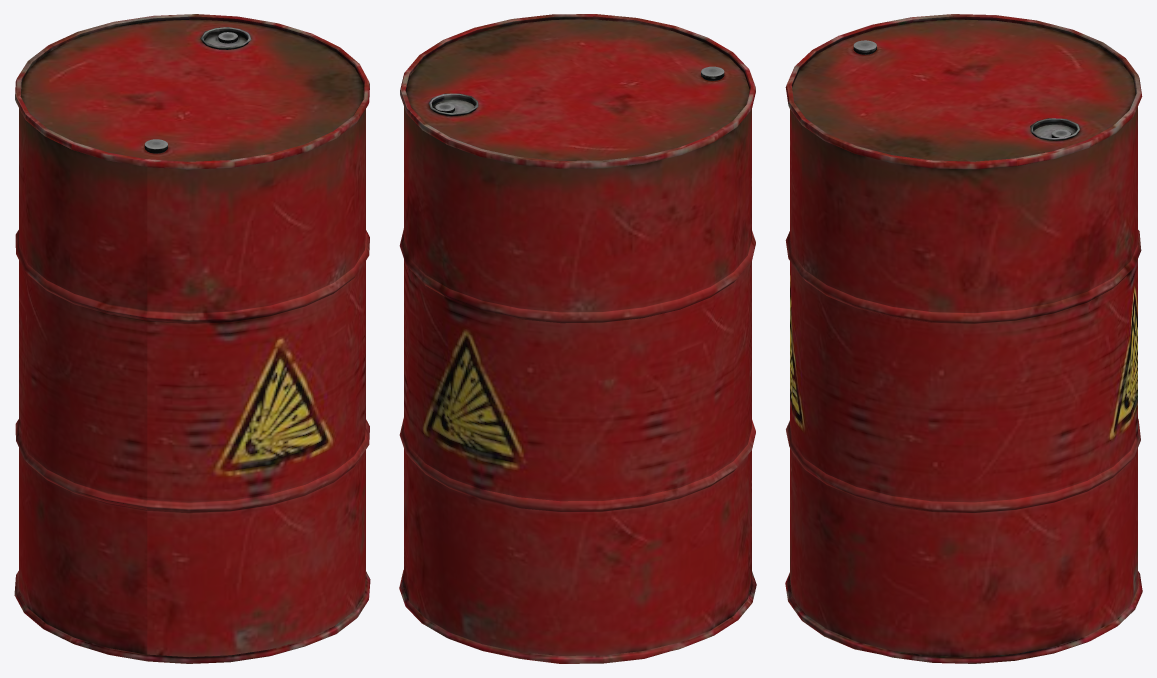
The model's file is ph_barrel.glb.
The picture shows the model from 3 angles, left to right: view 1: azimuth 30°, elevation 25°; view 2: azimuth 150°, elevation 25°; view 3: azimuth 270°, elevation 25°; orthographic projection.
Size of the model in its own units: 0.5652 by 0.8802 by 0.5654.
Materials: 1 (1 with a texture image).
